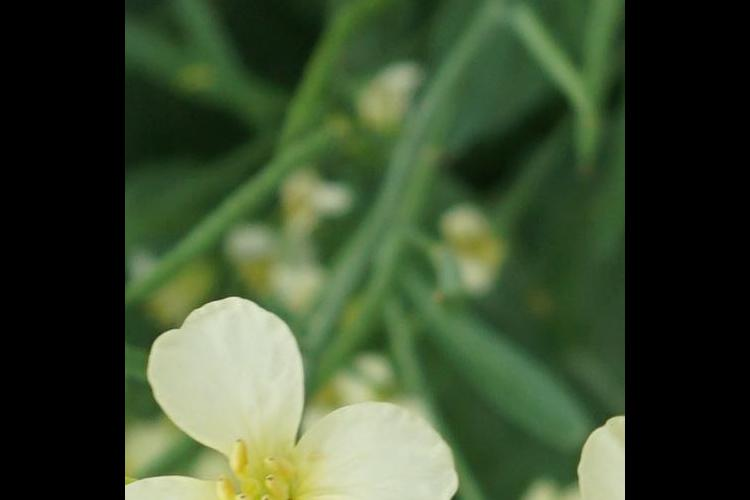white: (129, 305, 431, 500), (559, 418, 624, 500)
